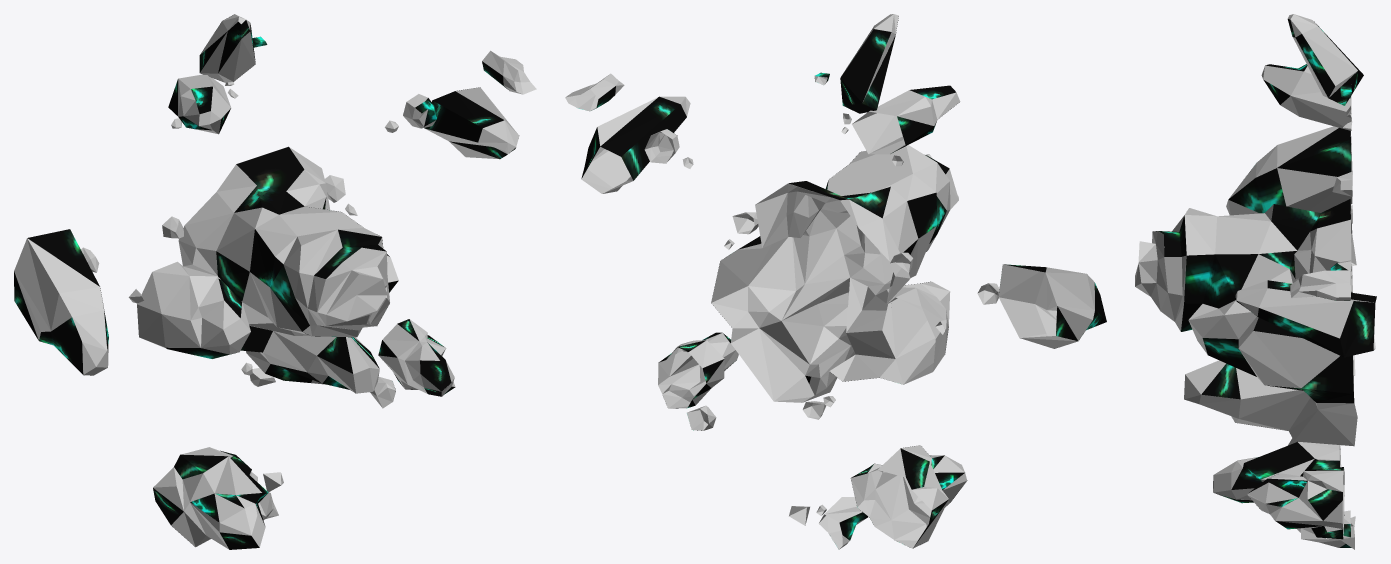
The model's file is moshi.obj.
3 renders of one model, left to right at view 1: azimuth 30°, elevation 25°; view 2: azimuth 150°, elevation 25°; view 3: azimuth 270°, elevation 25°, orthographic.
Visible parts, largest first — view 1: moshi, moshi01_guang; view 2: moshi, moshi01_guang; view 3: moshi, moshi01_guang.
Part boxes in pixels (<box>): moshi: <box>14,14,536,549</box>; moshi01_guang: <box>14,15,515,549</box>; moshi: <box>565,14,1094,549</box>; moshi01_guang: <box>579,16,1106,548</box>; moshi: <box>1135,14,1375,549</box>; moshi01_guang: <box>1153,19,1376,547</box>.
Bounding box in the file's own units: 199 × 199 × 83.79.
